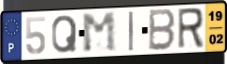5: (24, 15, 47, 56)
B: (147, 8, 177, 52)
I: (127, 10, 135, 53)
M: (81, 11, 118, 55)
Q: (50, 14, 78, 55)
R: (177, 6, 206, 51)
